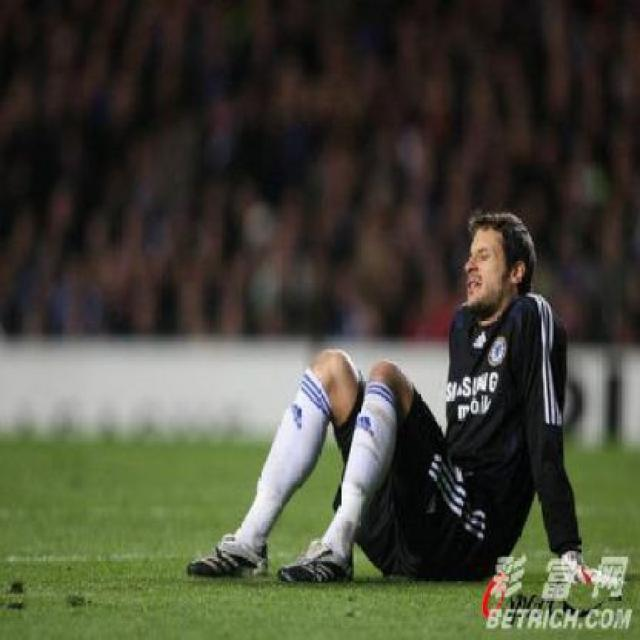fall: (194, 196, 589, 586)
